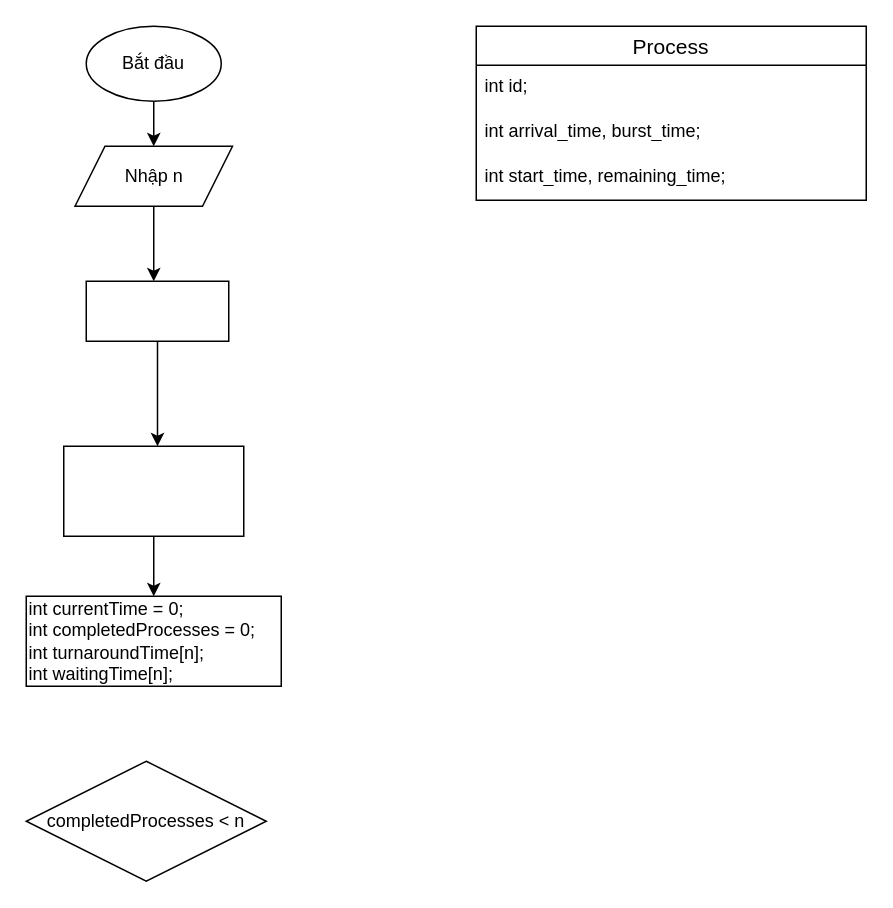
Image size: 893x908. Some labels were removed from this diagram. The centre of each missing label's shape, as x and y in pixels:
"input(p,n)" goes at (157,310).
"Sort(p, n);" goes at (153,490).
